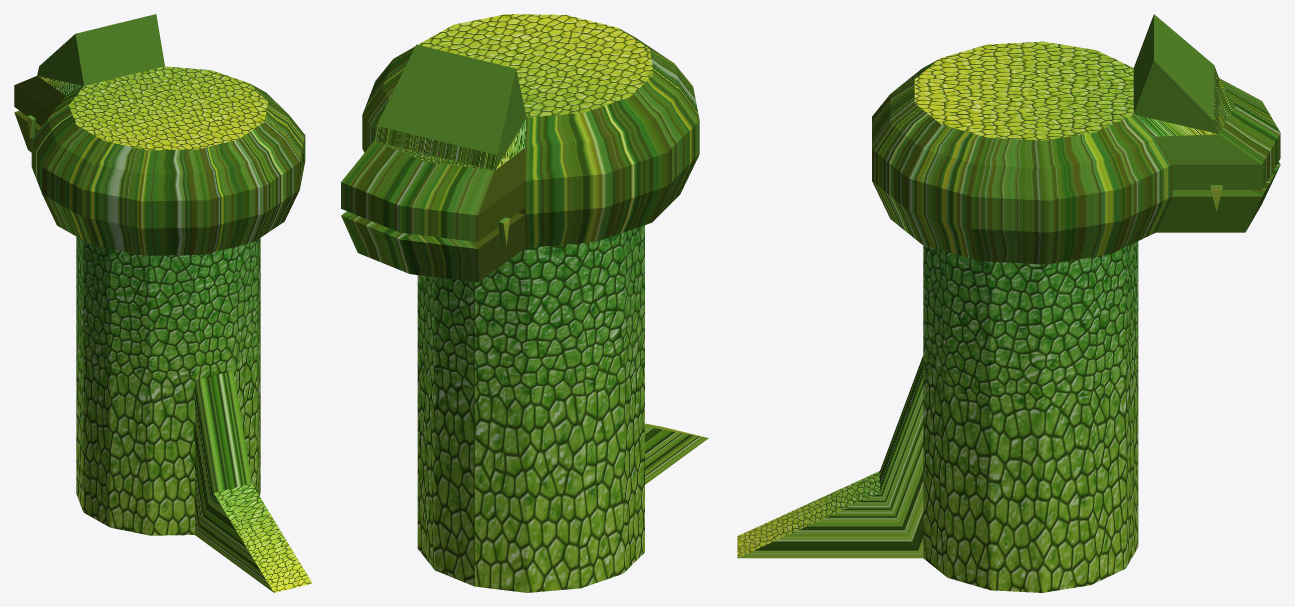
The model's file is lagarto robot.fbx.
The picture shows the model from 3 angles, left to right: view 1: azimuth 30°, elevation 25°; view 2: azimuth 150°, elevation 25°; view 3: azimuth 270°, elevation 25°; orthographic projection. The views are drawn at different scales.
Parts seen in each view (by area): view 1: Fernando; view 2: Fernando; view 3: Fernando.
Boxes of the visible parts, x1=… form: Fernando: x1=14, y1=14, x2=312, y2=592; Fernando: x1=341, y1=14, x2=708, y2=592; Fernando: x1=737, y1=14, x2=1280, y2=592.
Bounding box in the file's own units: 947 × 1659 × 1602.
